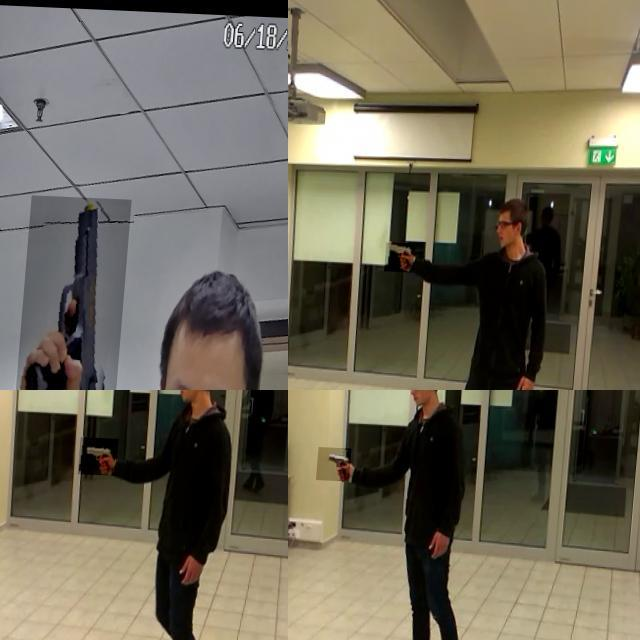gun-knife-thesis - v11 Yolov5 augmented: (20, 193, 134, 390), (84, 436, 124, 474), (322, 446, 358, 480), (390, 240, 420, 270)
